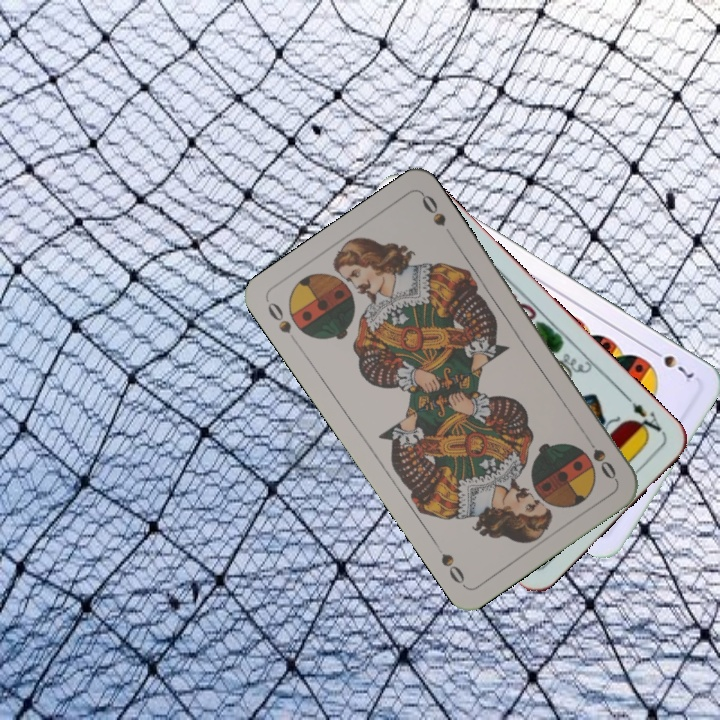EA: (620, 390, 667, 441)
S7: (646, 344, 697, 385)
SO: (581, 430, 620, 482), (263, 297, 294, 336)
